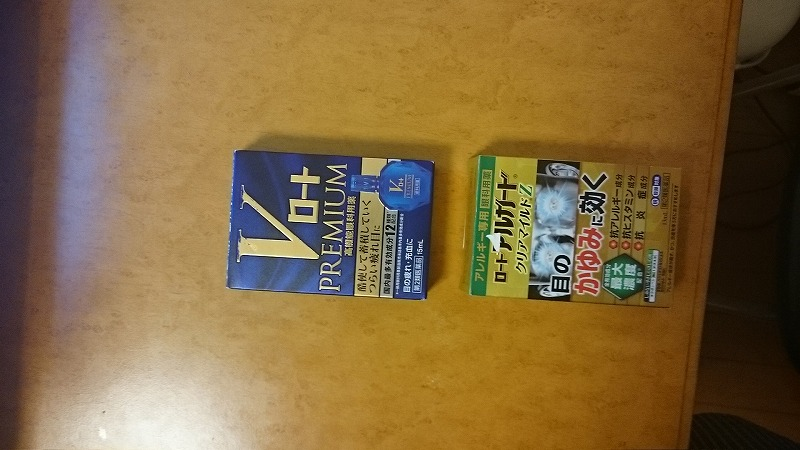C: (453, 141, 681, 316)
D: (227, 141, 431, 306)
